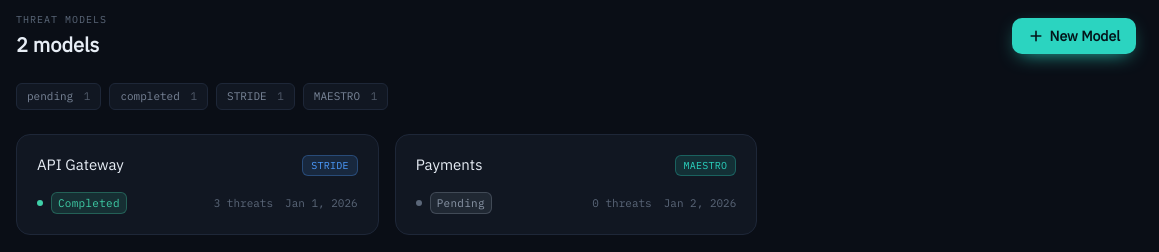
Test: Home — filtering › filters the list by status when a status chip is clicked
The image size is (1159, 252).
Expected: the heading "API Gateway" is shown, [37,154,124,174]
Step 1. Click the button "completed 1" → (159, 96), box [109,83,208,110]
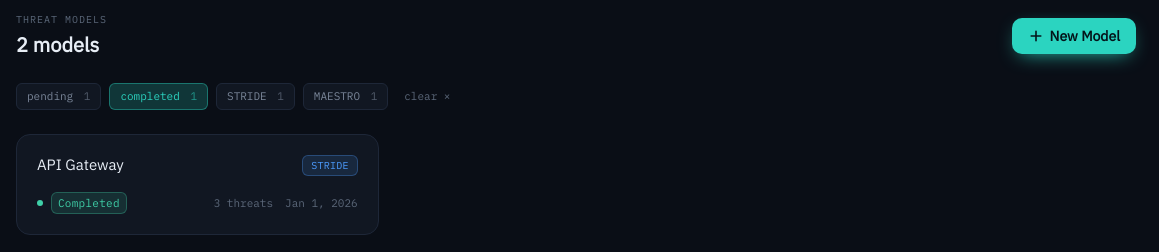
Expected: the heading "API Gateway" is shown, [37,154,124,174]
Expected: the link "Payments" is gone
